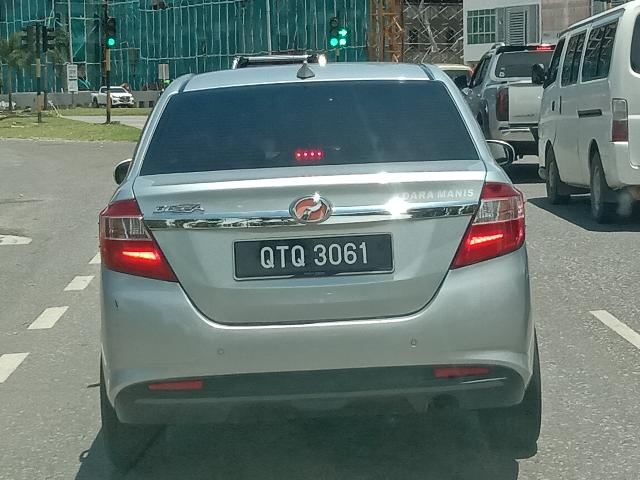License_Plate: (235, 232, 396, 282)
car: (94, 63, 535, 461)
